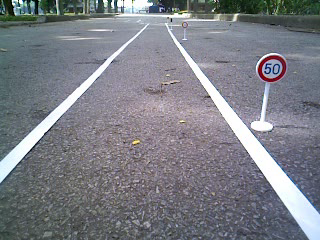limit 50: (253, 52, 290, 85)
